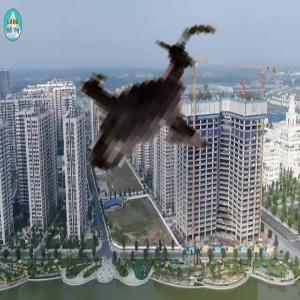drone: (34, 4, 273, 243)
